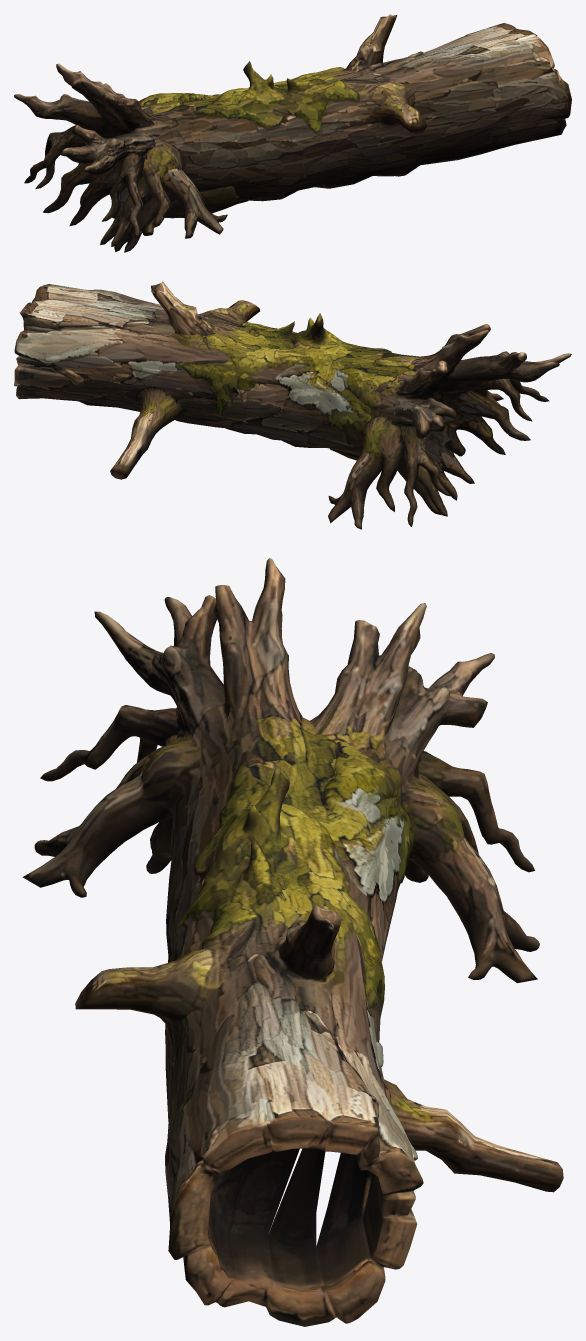
Rendered from act1-a04-5-hollow-trunk.glb.
The picture shows the model from 3 angles, top to bottom: view 1: azimuth 30°, elevation 25°; view 2: azimuth 150°, elevation 25°; view 3: azimuth 270°, elevation 25°; orthographic projection. The views are drawn at different scales.
Visible parts, largest first — view 1: act1-a04-5-hollow-trunk; view 2: act1-a04-5-hollow-trunk; view 3: act1-a04-5-hollow-trunk.
Boxes of the visible parts, x1,y1,x2,y2 form: act1-a04-5-hollow-trunk: [14, 14, 571, 252]; act1-a04-5-hollow-trunk: [14, 281, 571, 529]; act1-a04-5-hollow-trunk: [22, 558, 563, 1326].
Size of the model in its own units: 5 by 1.64 by 2.34.
1 material, 1 textured.
